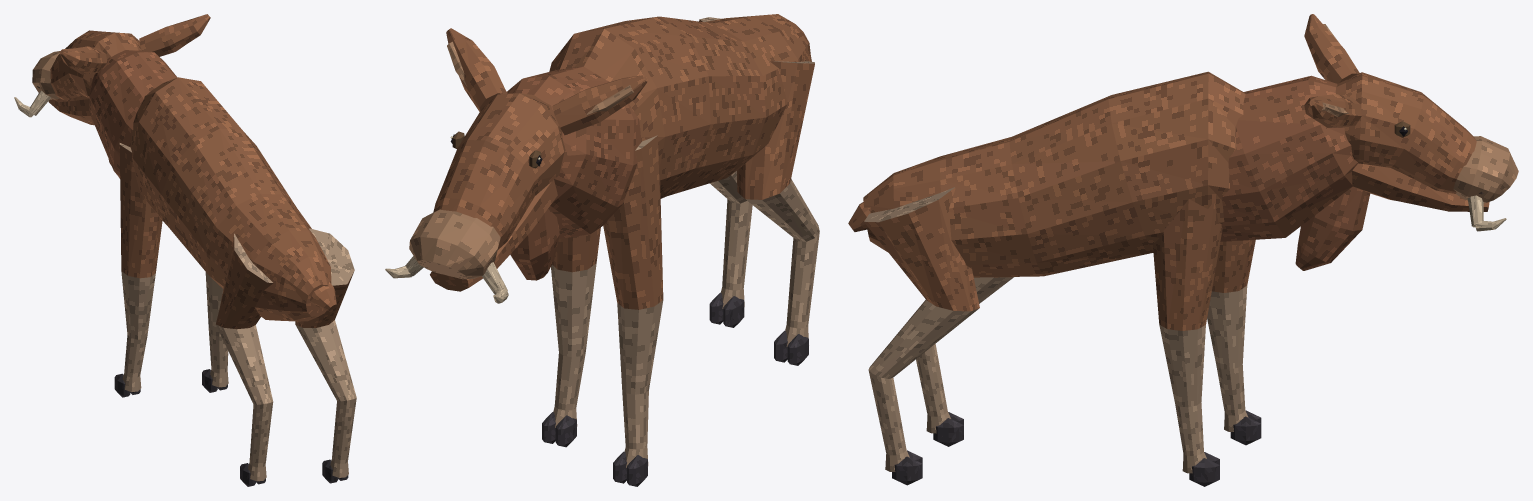
Rendered from mon_tusked_moose_calf.glb.
3 views of the same model, side by side, from view 1: azimuth 30°, elevation 25°; view 2: azimuth 150°, elevation 25°; view 3: azimuth 270°, elevation 25° (orthographic). The views are drawn at different scales.
Visible parts, largest first — view 1: closed_body; view 2: closed_body; view 3: closed_body.
Boxes of the visible parts, bbox=[...] form: closed_body: bbox=[14, 14, 356, 486]; closed_body: bbox=[385, 14, 819, 486]; closed_body: bbox=[848, 14, 1518, 486].
Bounding box in the file's own units: 0.5263 × 1.12 × 1.68.
Materials: 1 (1 with a texture image).
